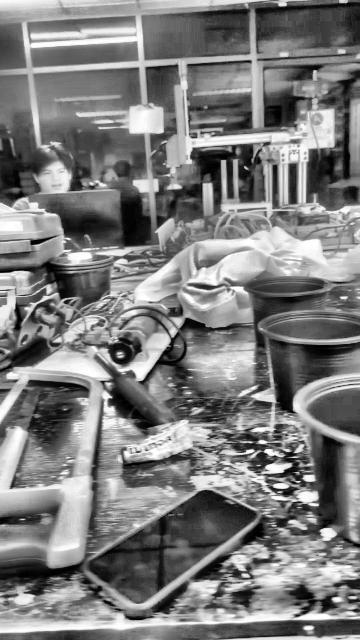pot: (295, 375, 359, 545), (258, 310, 359, 411), (245, 276, 330, 347), (45, 259, 119, 301)
